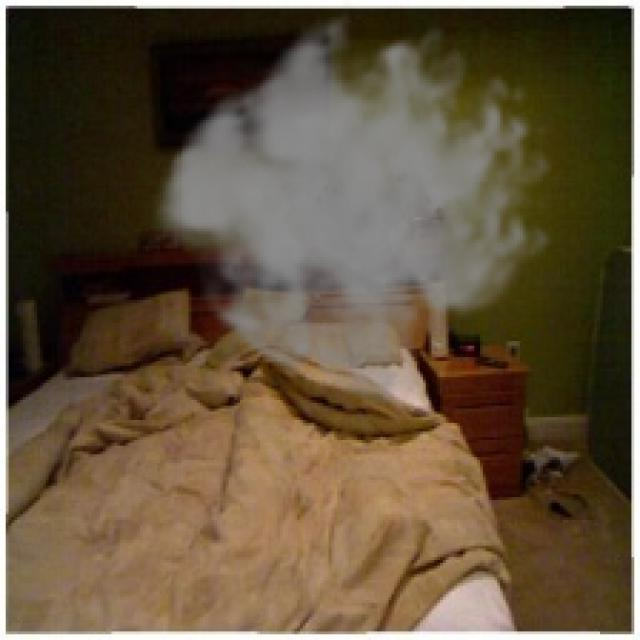smoke: (151, 0, 555, 412)
